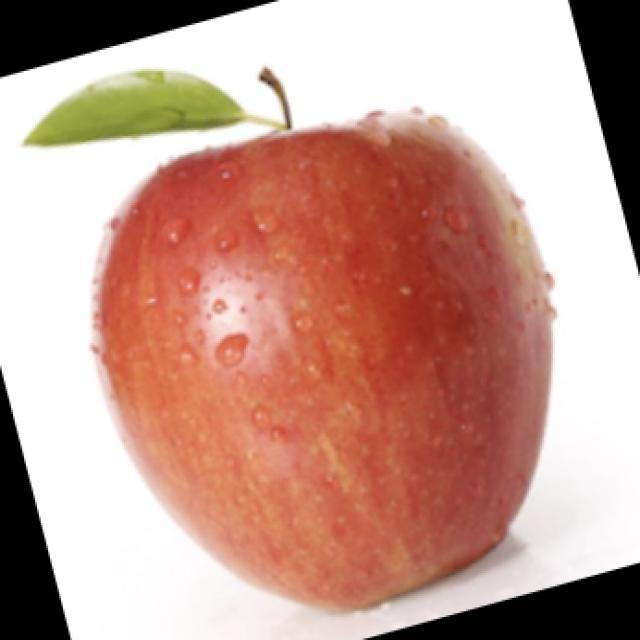Fresh Apple: (87, 115, 558, 608)
